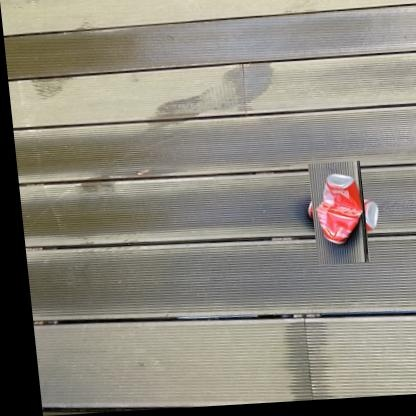trash: (316, 174, 362, 243)
